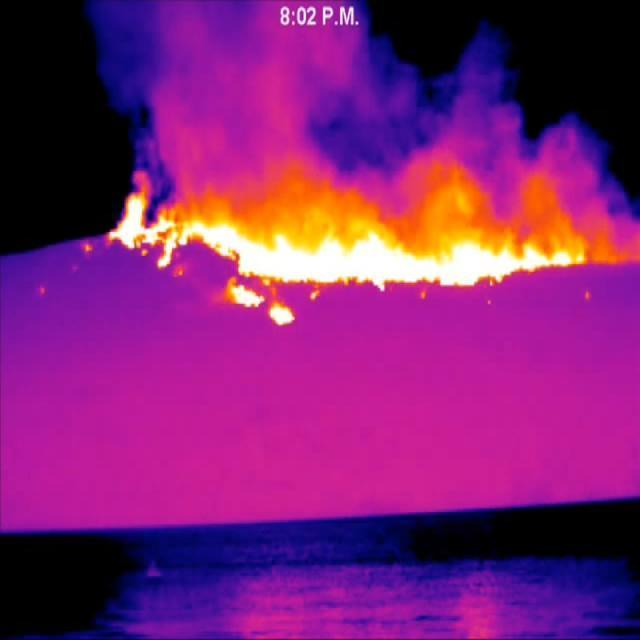fire: (108, 145, 640, 329)
